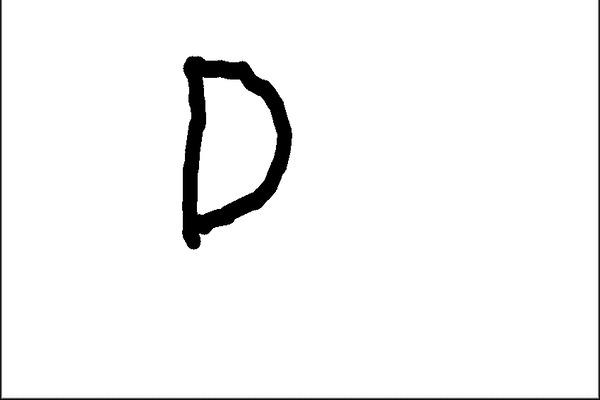D: (172, 48, 297, 252)
